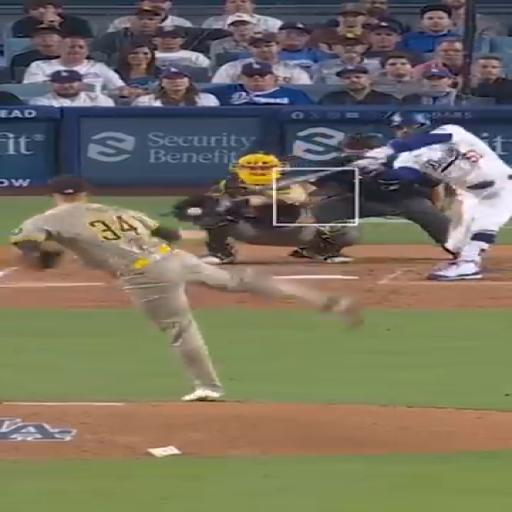bat: (274, 163, 354, 189)
